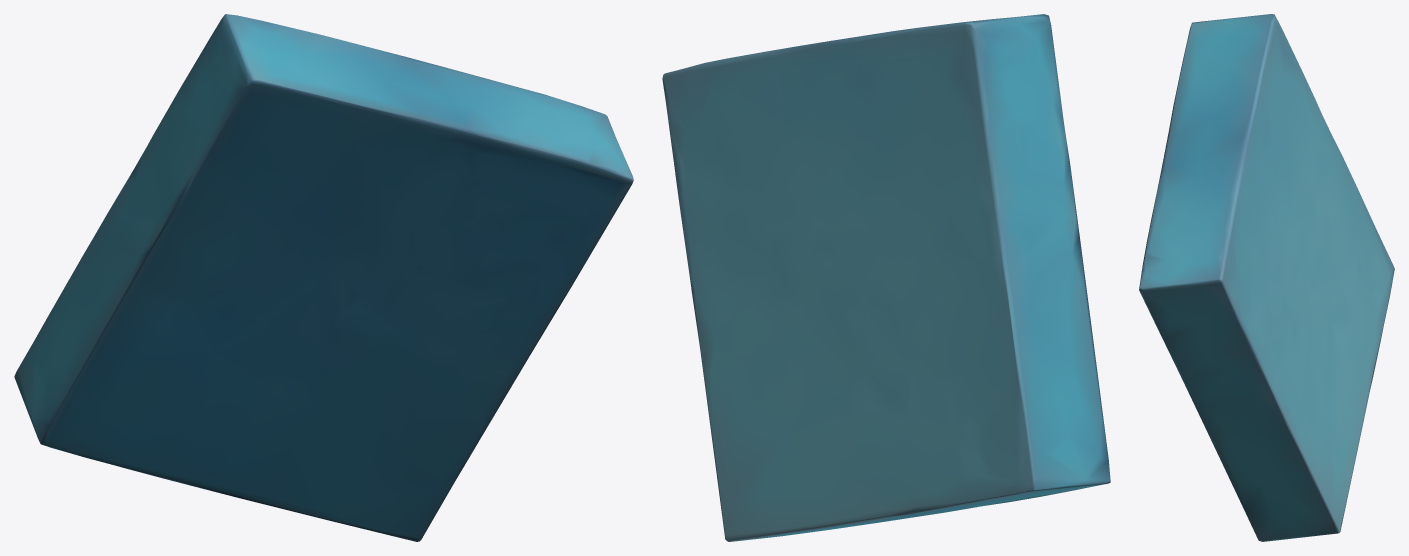
3 views of the same model, side by side, from view 1: azimuth 30°, elevation 25°; view 2: azimuth 150°, elevation 25°; view 3: azimuth 270°, elevation 25° (orthographic). The views are drawn at different scales.
Parts seen in each view (by area): view 1: 72_geometry_0; view 2: 72_geometry_0; view 3: 72_geometry_0.
Part boxes in pixels (left/top/right/bottom): 72_geometry_0: left=14, top=14, right=633, bottom=541; 72_geometry_0: left=662, top=14, right=1110, bottom=541; 72_geometry_0: left=1139, top=14, right=1394, bottom=541.
Size of the model in its own units: 0.1067 by 0.1132 by 0.0577.
